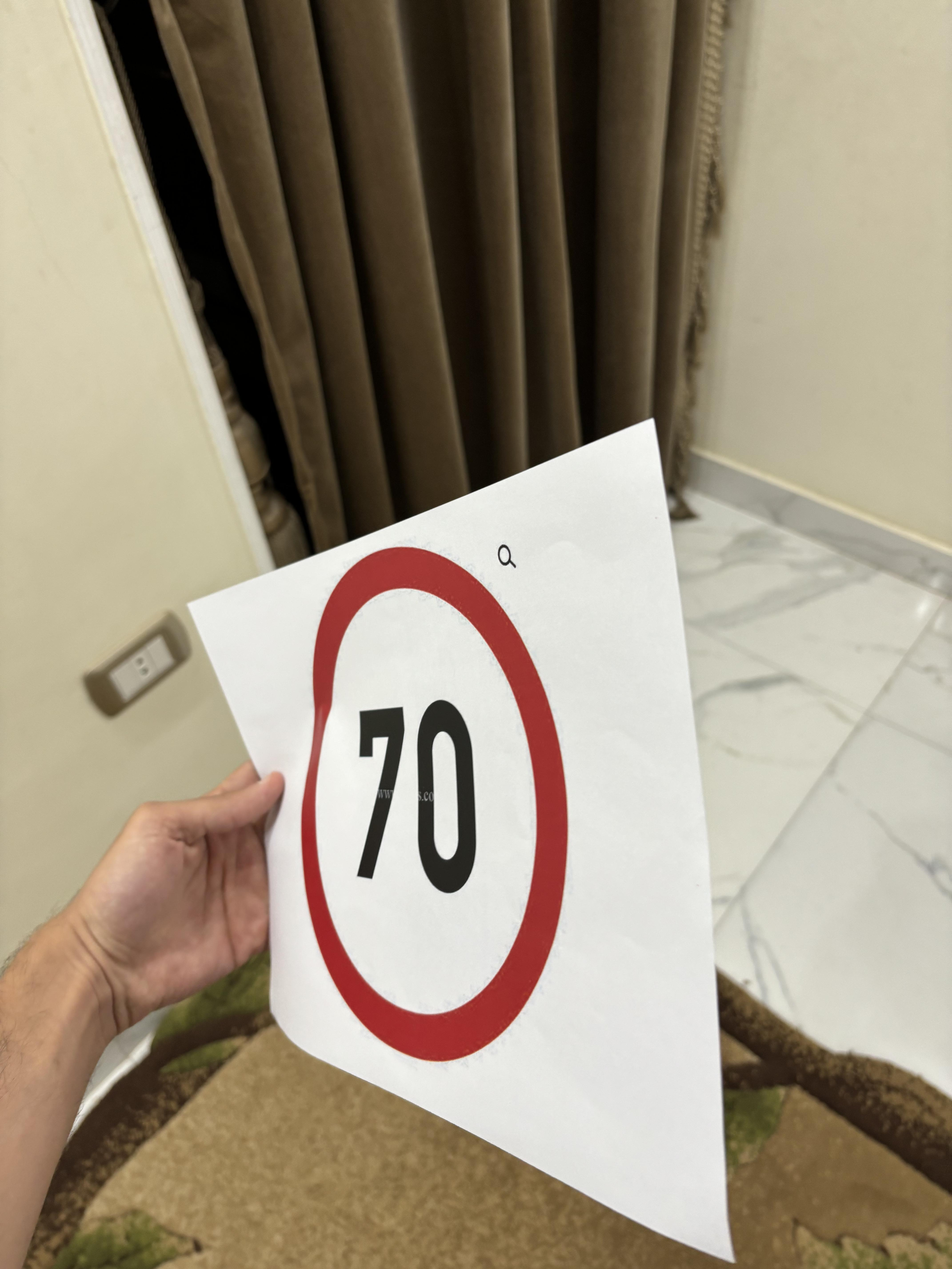70-Speed: (305, 540, 571, 1064)
